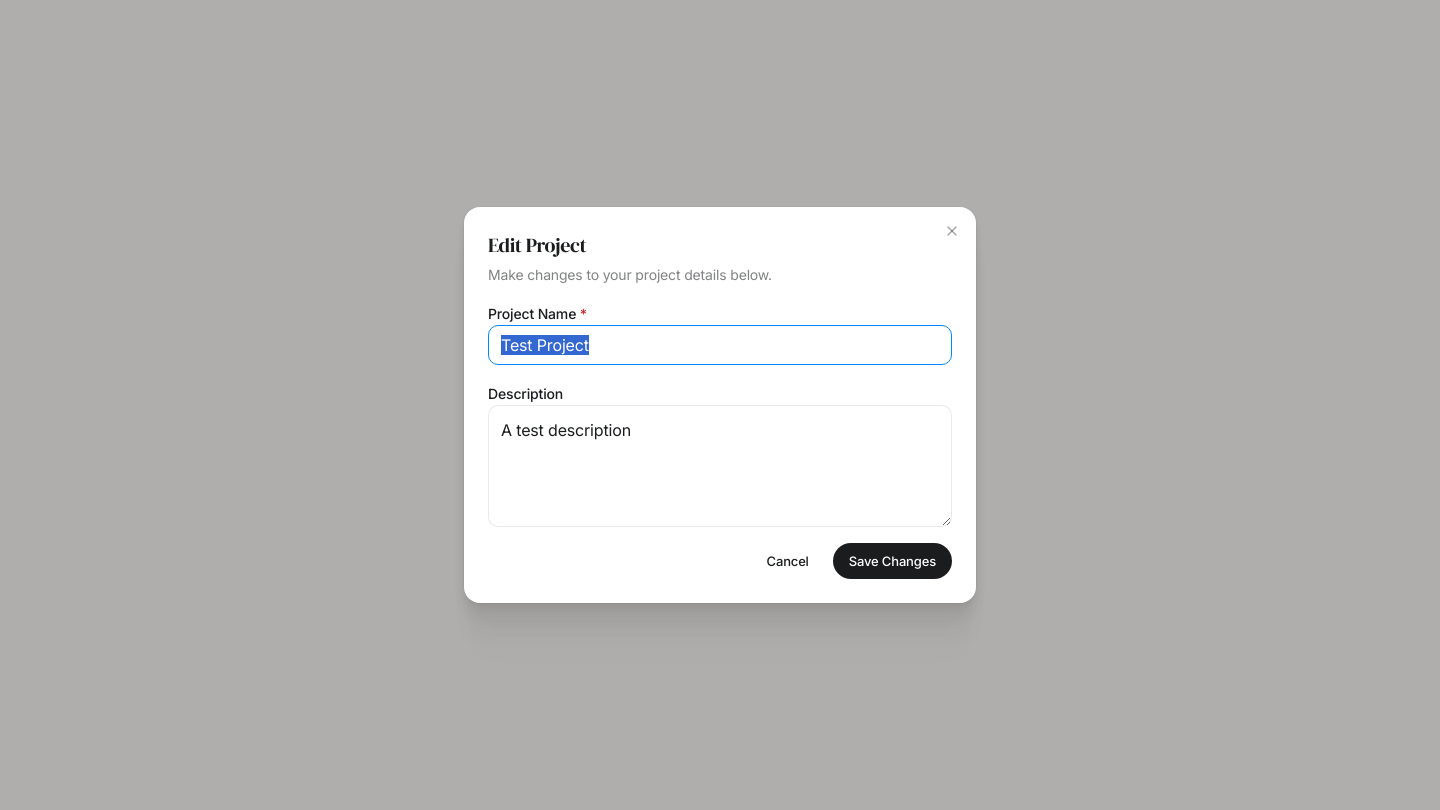
Test: EditProjectDialog › does not submit when name is empty or whitespace
Clear the field showing "Test Project": {"x": 720, "y": 345} x1=488 y1=325 x2=952 y2=365
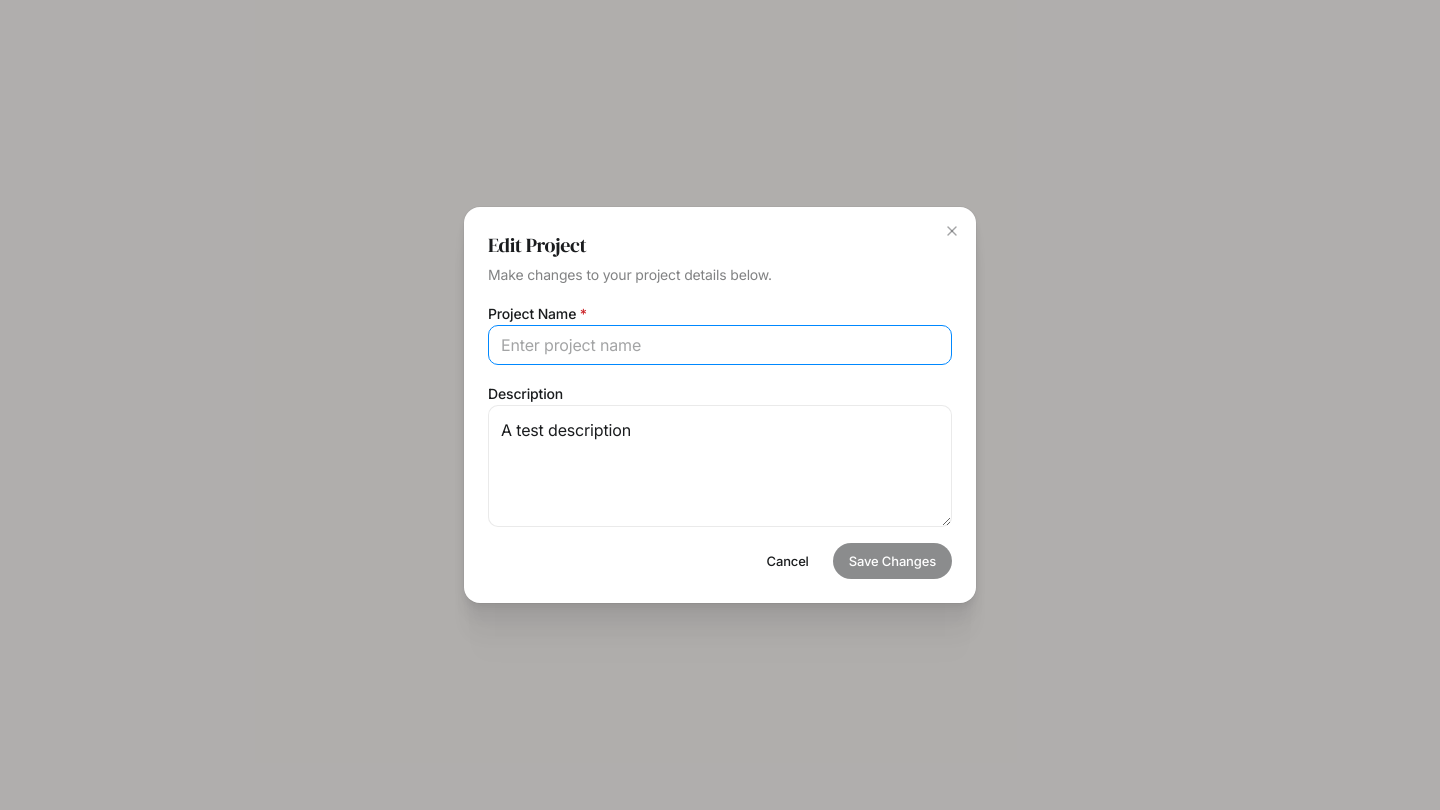
Result: the button "Save Changes" is disabled at x1=833 y1=543 x2=952 y2=579
